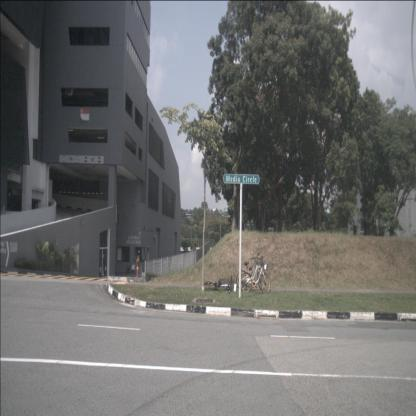vehicle-bicycle: (241, 256, 271, 294), (237, 253, 264, 292), (204, 274, 233, 294)
